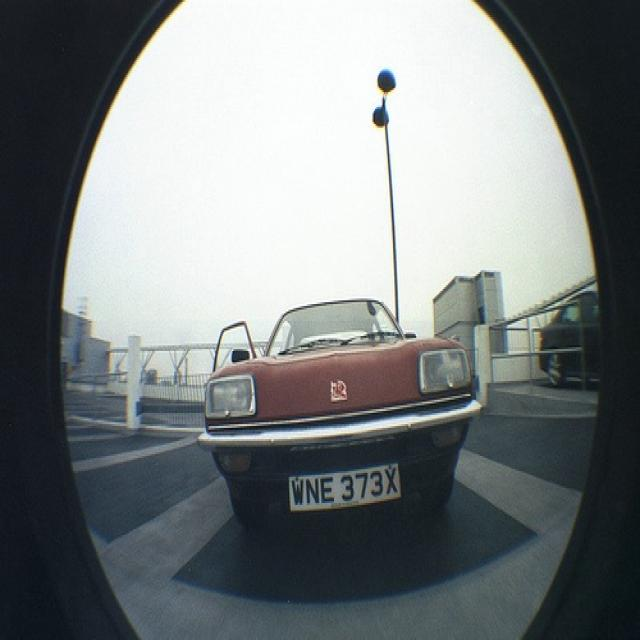car: (204, 296, 471, 522), (539, 284, 599, 386)
